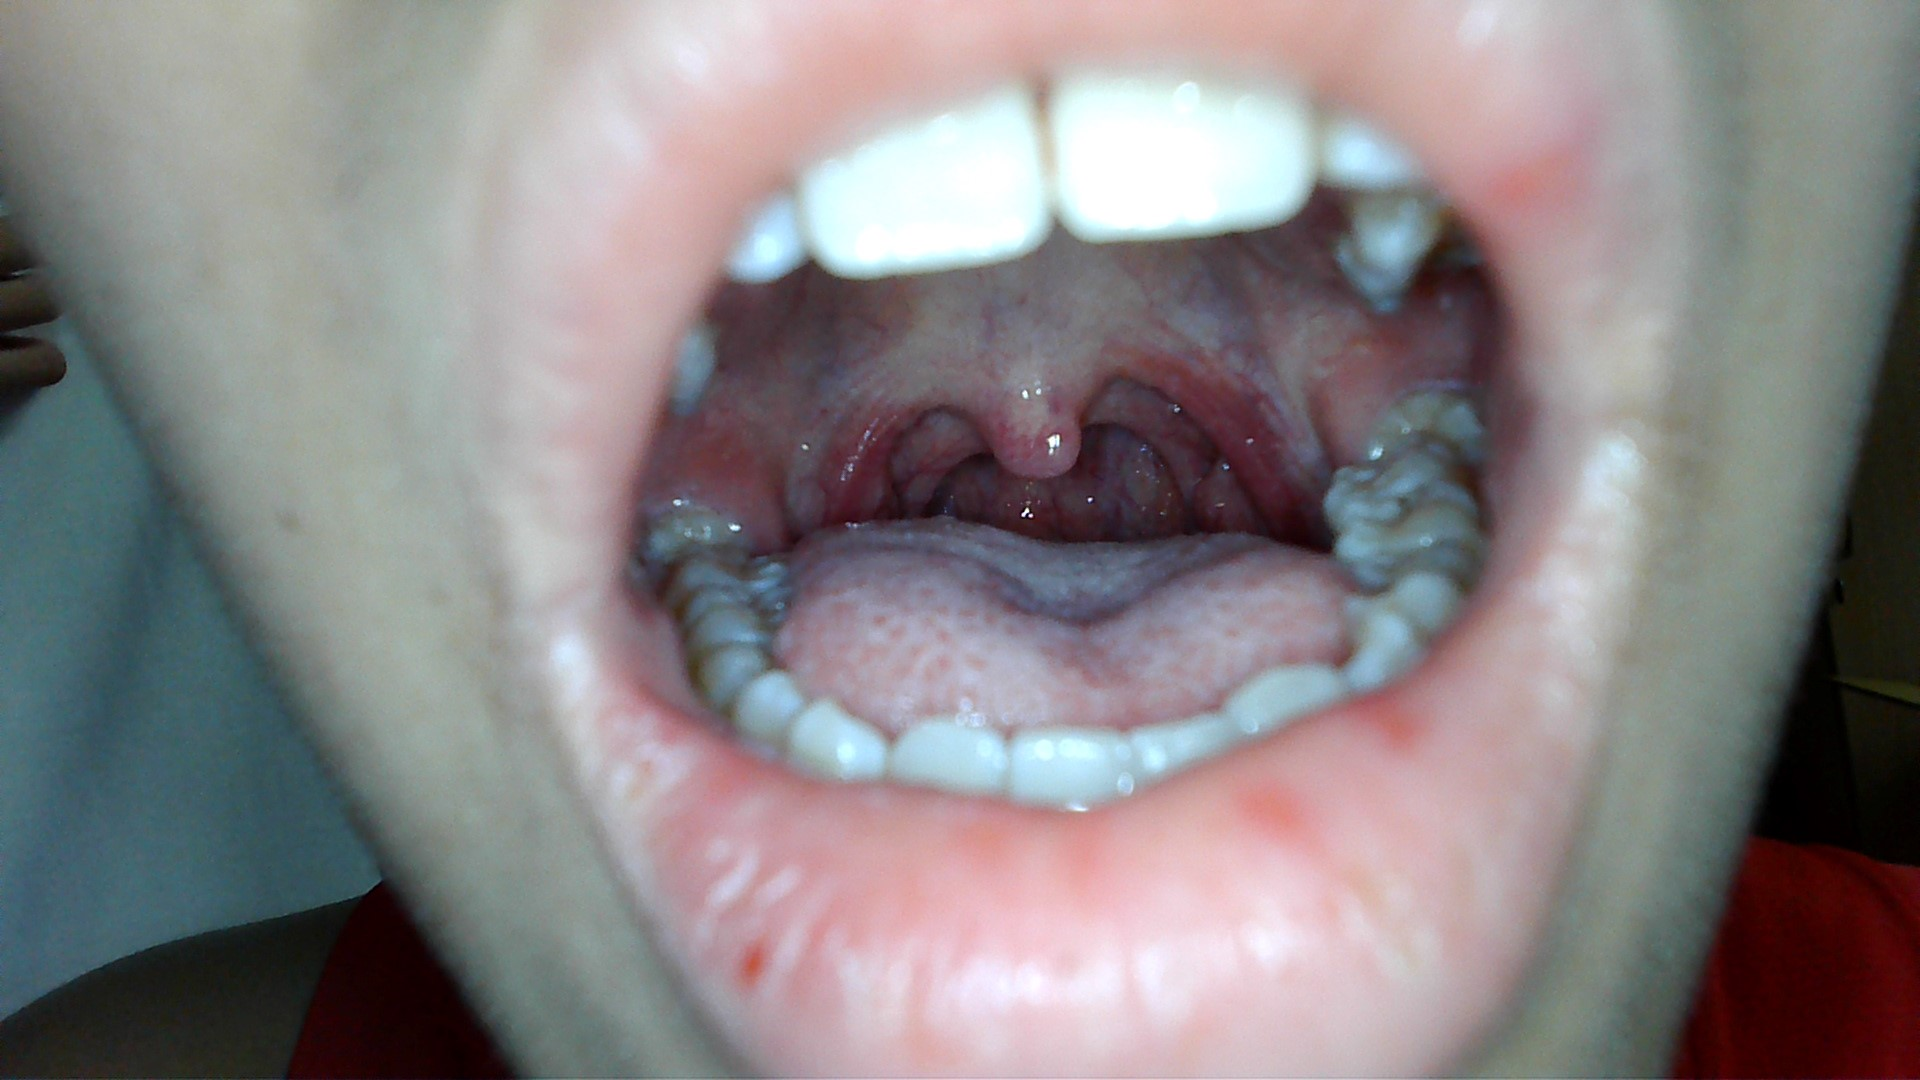throat: (1170, 313, 1305, 520), (806, 364, 926, 512)
